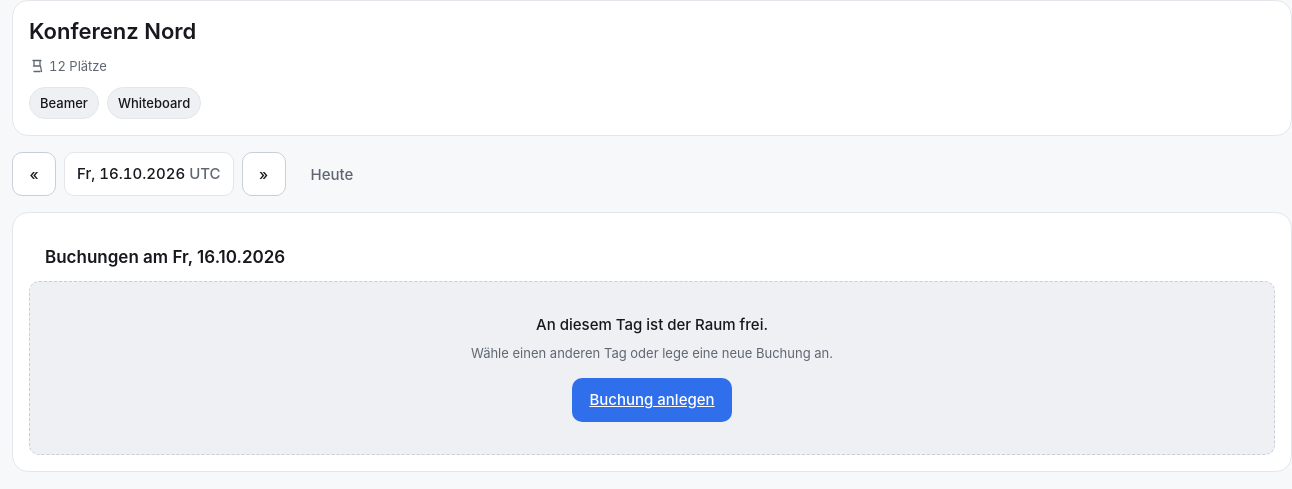
Test case: RoomDetailPage › loads the chosen day's bookings in chronological order
Check: the heading "Konferenz Nord" is shown, box [29, 18, 196, 44]
Step 1. Type "2026-05-20" into the date field named "Datum" → (149, 174), box [64, 152, 234, 196]
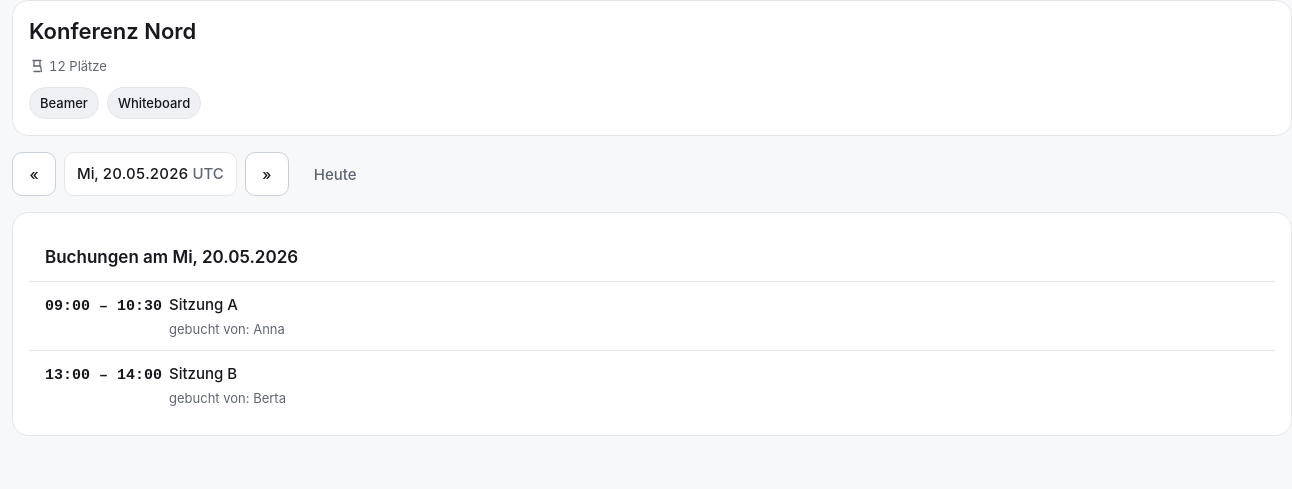
Check: the text "Sitzung A" is shown, box [169, 295, 238, 314]
Check: the elements "Sitzung " read "Sitzung A", "Sitzung B", in this order, box [169, 295, 238, 314]; [169, 364, 237, 383]
Check: the text "09:00 – 10:30" is shown, box [45, 296, 153, 318]
